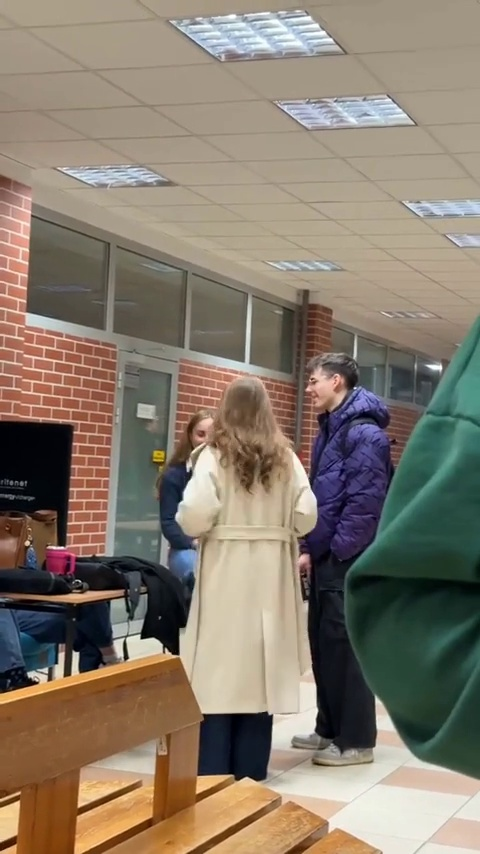no vest: (183, 375, 303, 723), (305, 346, 396, 727)
